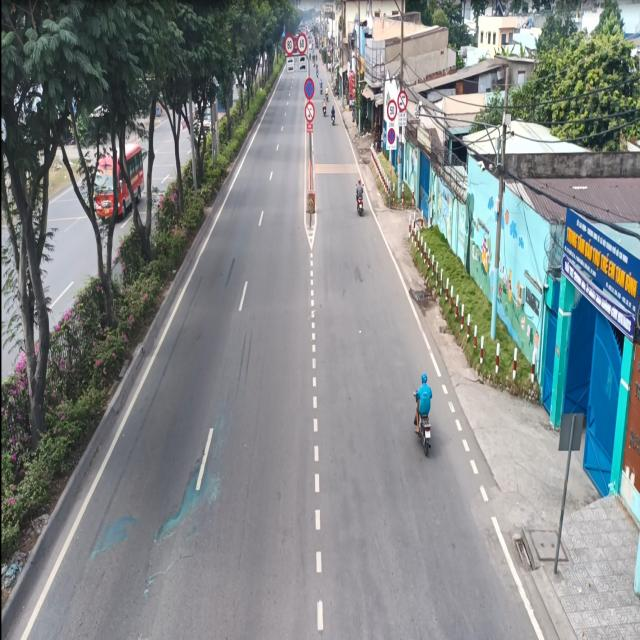motor: (414, 371, 437, 455), (354, 177, 371, 220)
